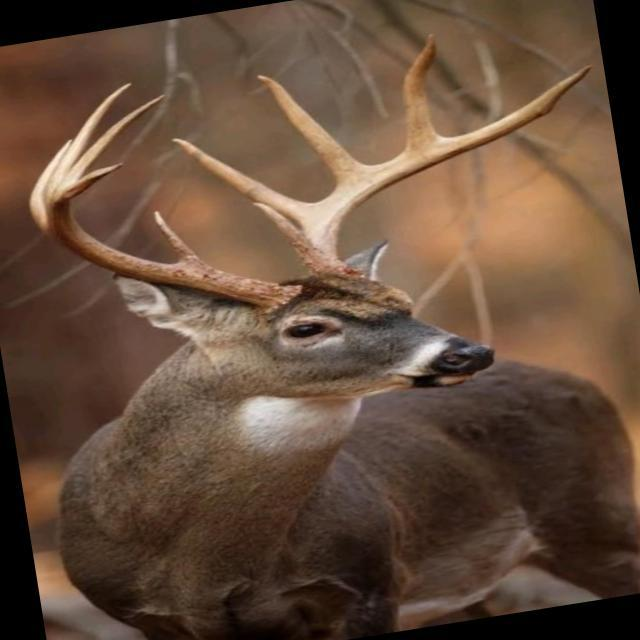L-F: (296, 63, 597, 277)
L-G1: (249, 201, 301, 248)
L-G2: (169, 136, 315, 229)
L-G3: (255, 74, 369, 187)
L-G4: (401, 32, 447, 152)
R-F: (46, 93, 303, 317)
R-G1: (151, 210, 218, 270)
R-G3: (44, 82, 134, 207)
R-G4: (60, 162, 124, 205)
